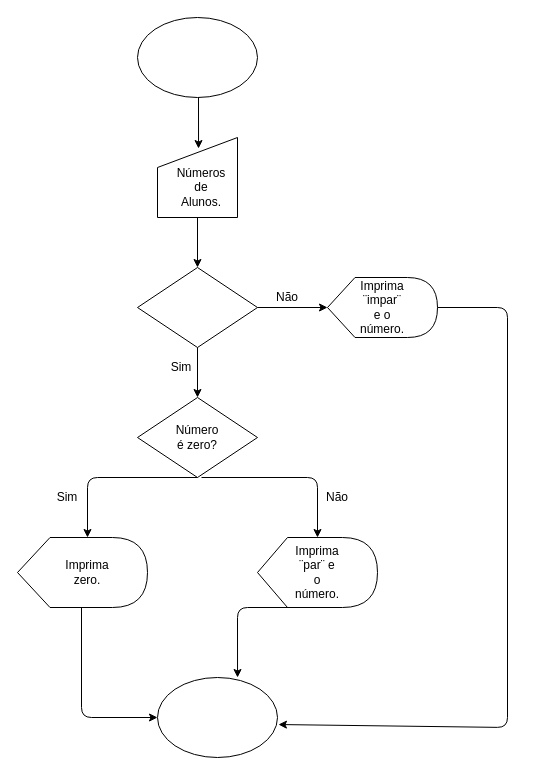
This 533x775 diagram has some shape labels left out. The centre of each missing label's shape, as x and y in pixels:
"Fim." goes at pixel 217 717.
"Inicio" goes at pixel 197 57.
"Número é par?" goes at pixel 197 307.
